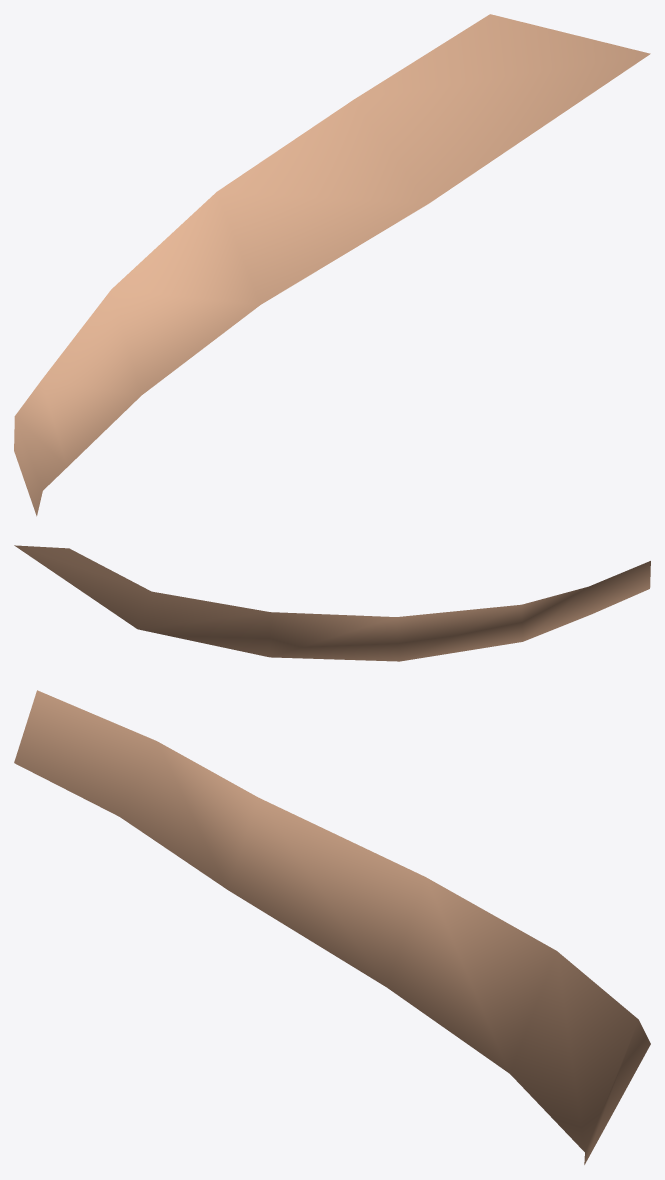
The model's file is gluteal-fold-l.glb.
The picture shows the model from 3 angles, top to bottom: view 1: azimuth 30°, elevation 25°; view 2: azimuth 150°, elevation 25°; view 3: azimuth 270°, elevation 25°; orthographic projection. The views are drawn at different scales.
Visible parts, largest first — view 1: Gluteal fold.l; view 2: Gluteal fold.l; view 3: Gluteal fold.l.
Part boxes in pixels (x1,y1,x2,y2): Gluteal fold.l: [14, 14, 650, 516]; Gluteal fold.l: [14, 545, 650, 661]; Gluteal fold.l: [14, 690, 650, 1164].
Size of the model in its own units: 0.0903 by 0.0172 by 0.0517.
